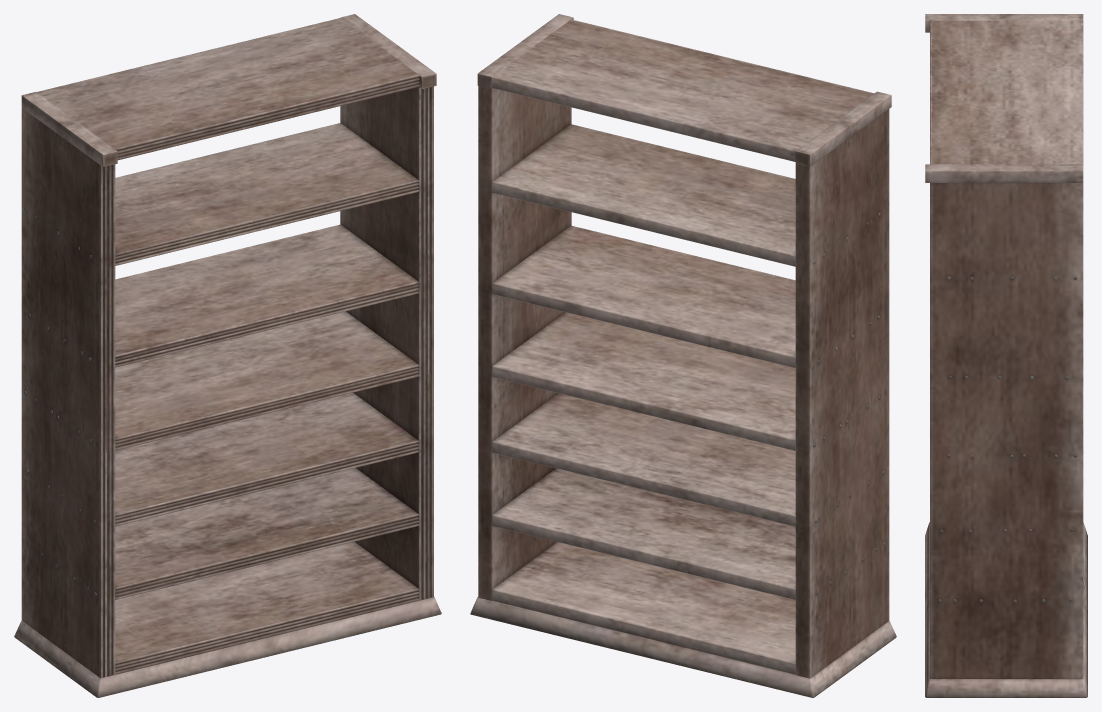
Rendered from wooden_bookshelf_worn_512.gltf.
3 renders of one model, left to right at view 1: azimuth 30°, elevation 25°; view 2: azimuth 150°, elevation 25°; view 3: azimuth 270°, elevation 25°, orthographic. The views are drawn at different scales.
Parts seen in each view (by area): view 1: wooden_bookshelf_worn; view 2: wooden_bookshelf_worn; view 3: wooden_bookshelf_worn.
Part boxes in pixels (x1=…): wooden_bookshelf_worn: x1=14, y1=14, x2=441, y2=697; wooden_bookshelf_worn: x1=470, y1=14, x2=896, y2=697; wooden_bookshelf_worn: x1=925, y1=14, x2=1087, y2=697.
Bounding box in the file's own units: 1.37 × 2.06 × 0.5813.
Materials: 1 (1 with a texture image).
